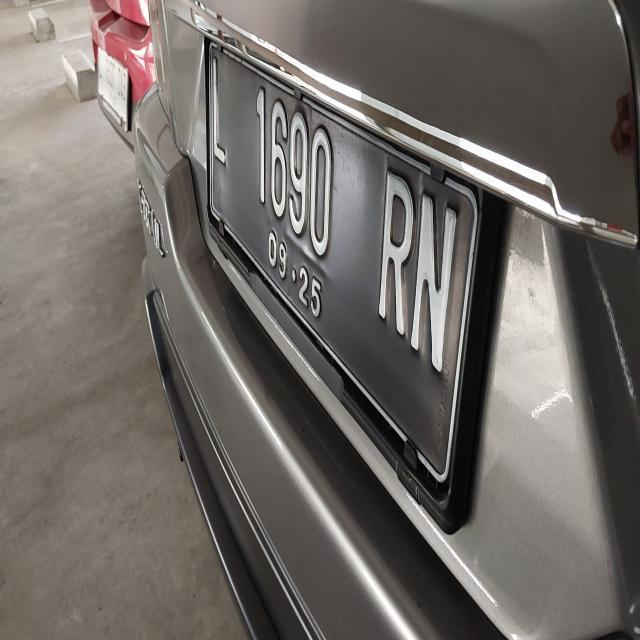0: (309, 120, 335, 261)
1: (246, 78, 268, 211)
6: (266, 84, 288, 233)
9: (288, 95, 310, 244)
L: (205, 52, 237, 182)
N: (411, 156, 458, 384)
R: (372, 142, 414, 346)
